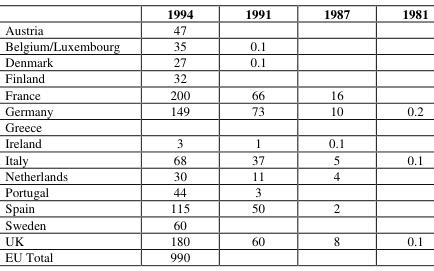table: (4, 4, 427, 264)
table column: (4, 4, 142, 264), (296, 4, 375, 264), (218, 4, 296, 264), (142, 4, 218, 264), (375, 4, 427, 264)
table column header: (4, 4, 427, 21)
table projected row header: (4, 118, 427, 134)
table row: (4, 4, 427, 21), (4, 36, 427, 53), (4, 101, 427, 118), (4, 166, 427, 183), (4, 231, 427, 248), (4, 53, 427, 69), (4, 69, 427, 85), (4, 85, 427, 101), (4, 118, 427, 134), (4, 134, 427, 150), (4, 150, 427, 166), (4, 183, 427, 199), (4, 199, 427, 215), (4, 215, 427, 231), (4, 248, 427, 264), (4, 21, 427, 36)
